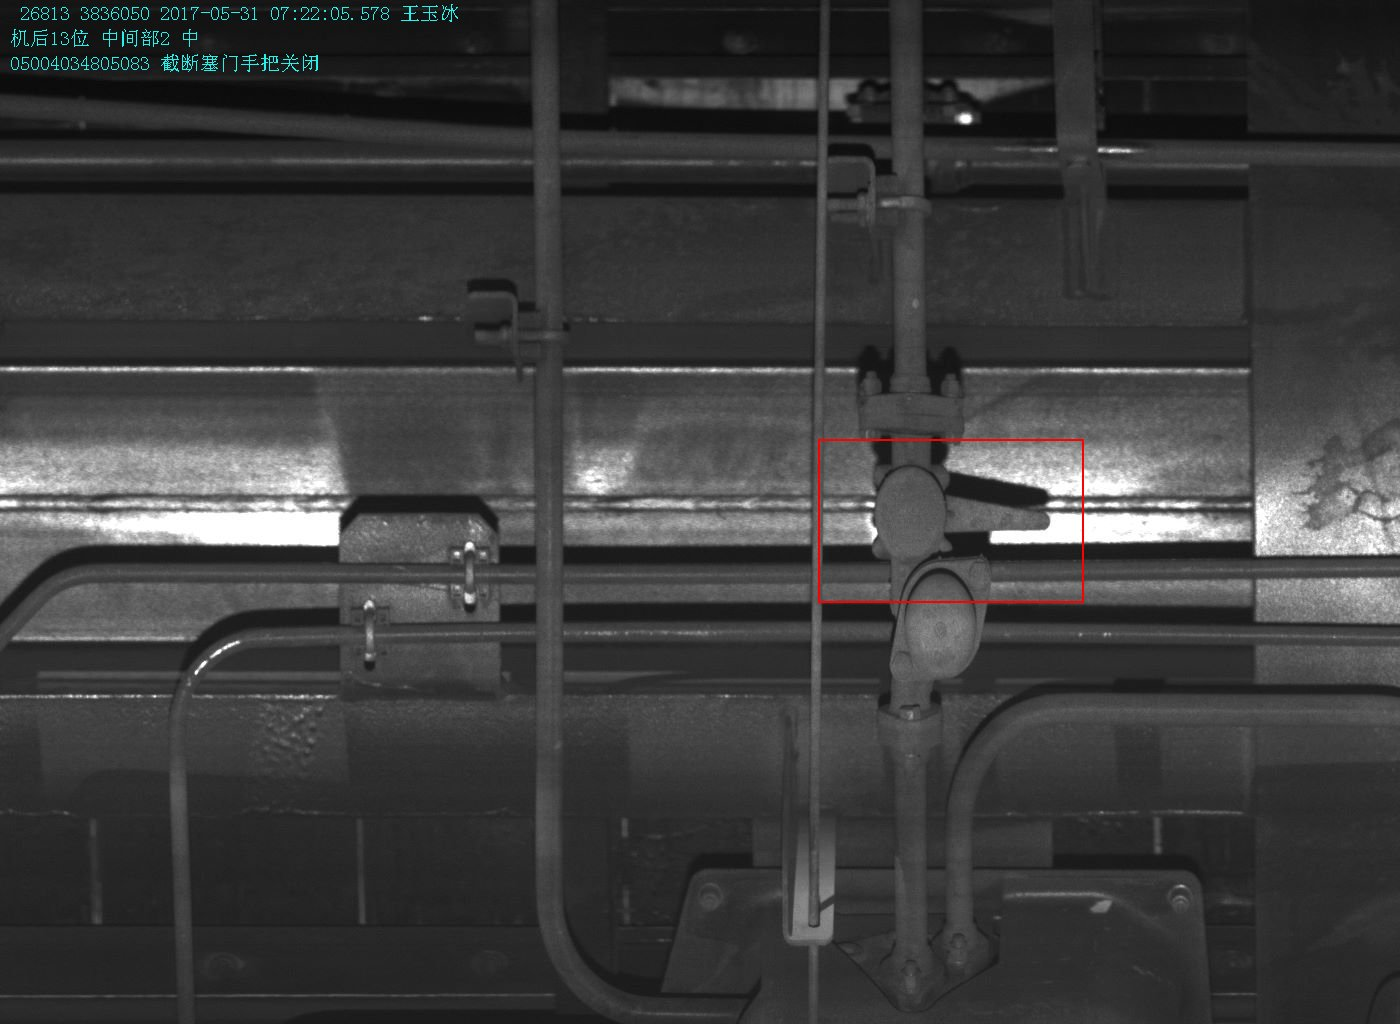truncated plug door handle: (872, 462, 1050, 559)
